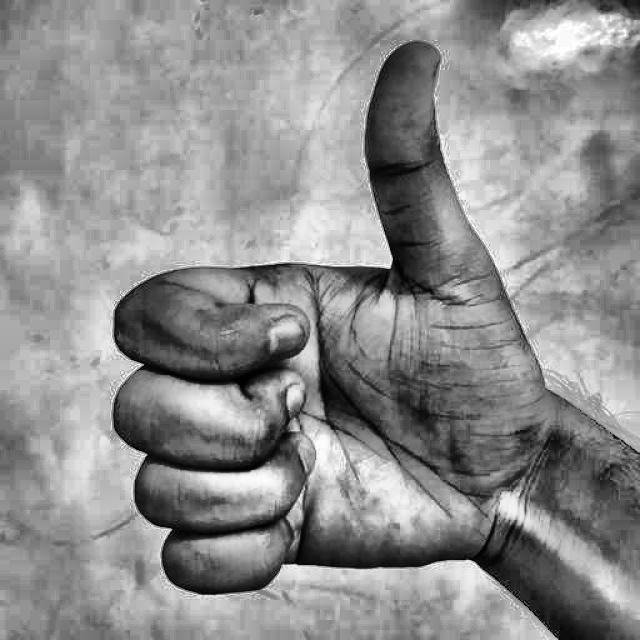Do: (54, 29, 544, 612)
